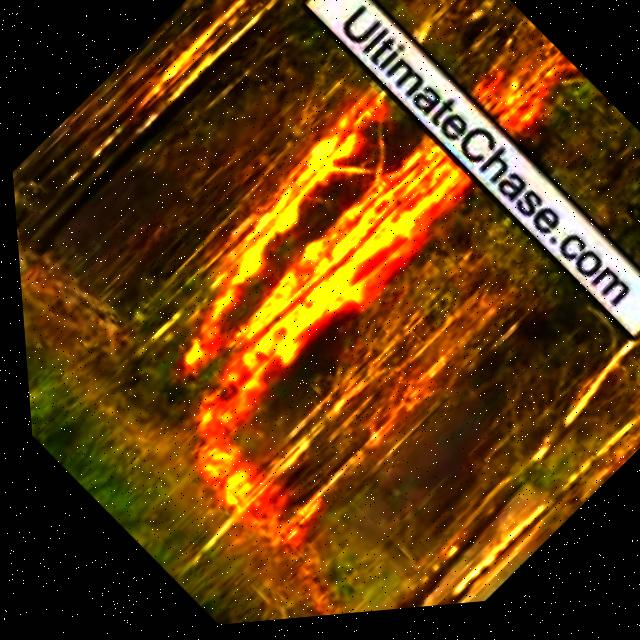Fire: (118, 83, 499, 449), (70, 0, 322, 190), (154, 402, 288, 544), (458, 38, 572, 152)
